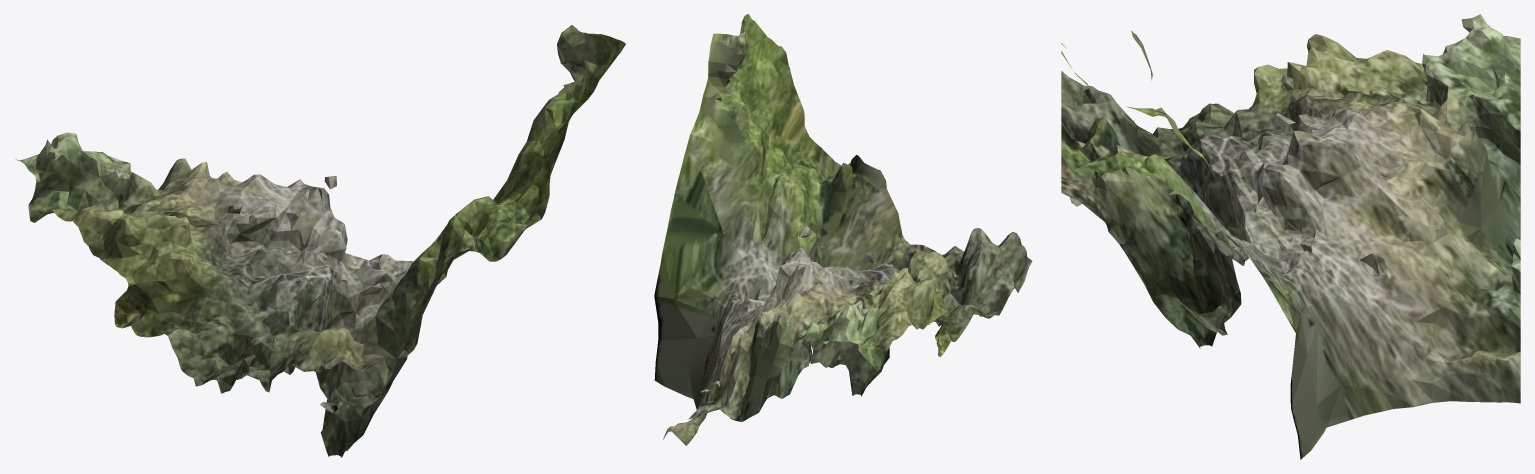
3 renders of one model, left to right at view 1: azimuth 30°, elevation 25°; view 2: azimuth 150°, elevation 25°; view 3: azimuth 270°, elevation 25°, orthographic. The views are drawn at different scales.
Size of the model in its own units: 11.8 by 11.8 by 11.8.
Materials: 4 (4 with a texture image).
